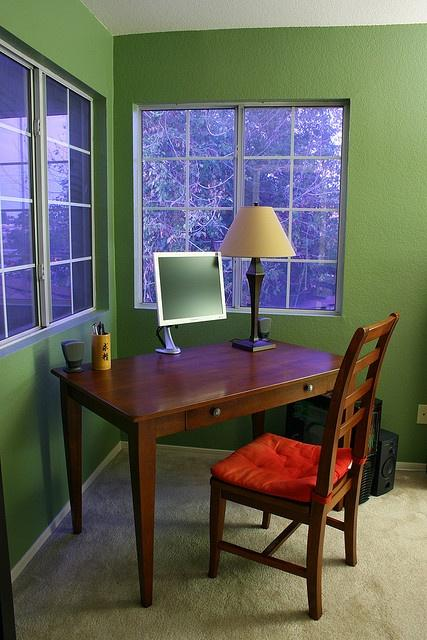AIO PC-Monitor-TV: (152, 250, 226, 327)
Kursi: (206, 312, 398, 621)
Meja: (49, 334, 339, 443)
